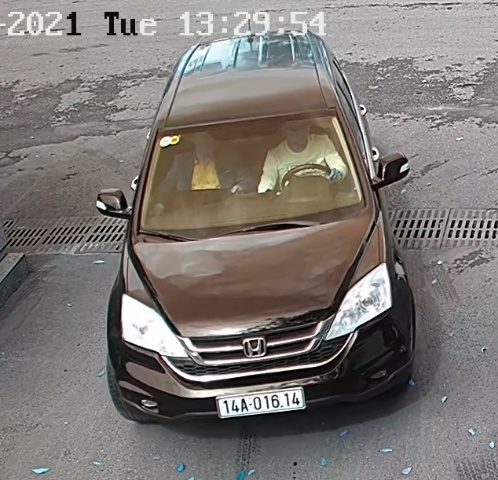vehicle plate: (208, 379, 308, 417)
